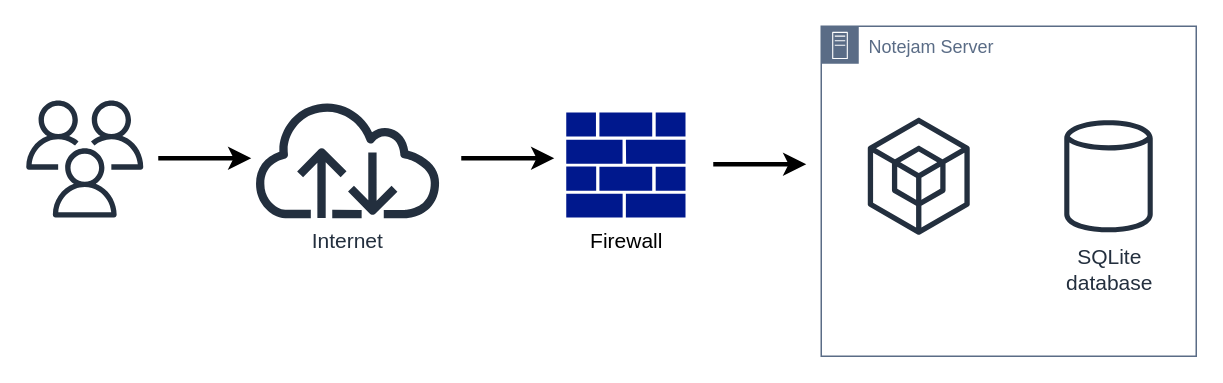
Image size: 1223x383. Some labels were removed from this diagram. The shapes that lost their labels are listed below. From the top down, each one's centre as x and y in pixels, then its label:
At [84,158]: "Users".
At [918,175]: "Notejam app with built-in webservers".
